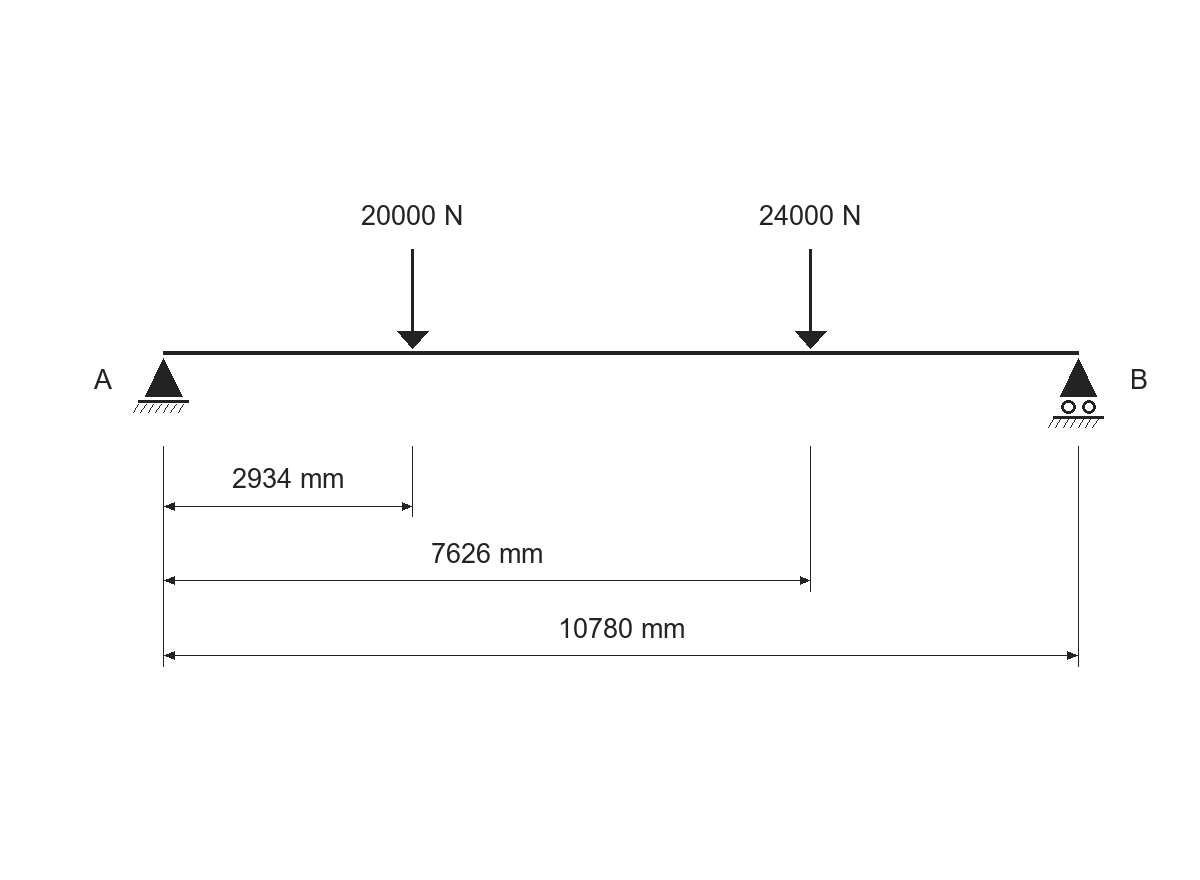pin_support: (133, 358, 189, 413)
point_load: (397, 249, 429, 349), (795, 249, 827, 349)
roller_support: (1048, 358, 1104, 428)
